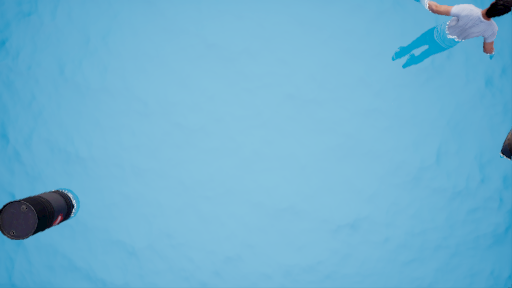person: (396, 2, 512, 80)
